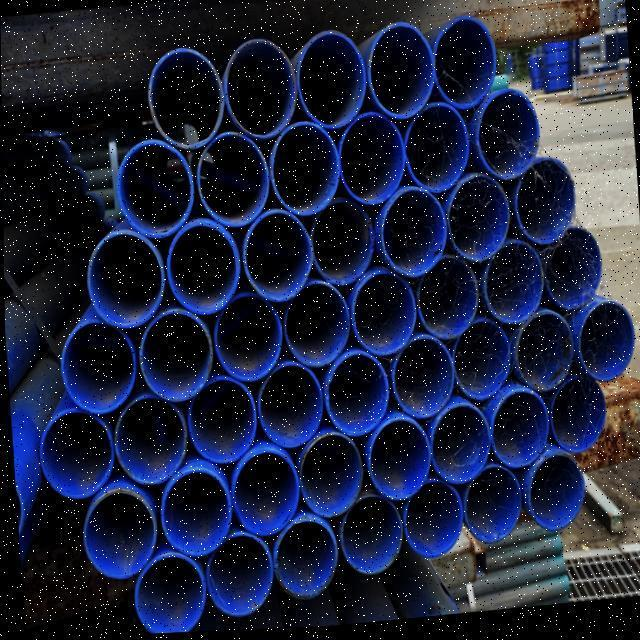pipe: (145, 49, 227, 151), (219, 40, 300, 142), (86, 233, 169, 332), (292, 32, 371, 132), (115, 141, 192, 243), (56, 319, 138, 414), (364, 28, 437, 130), (428, 24, 506, 119), (136, 311, 214, 404), (183, 380, 267, 466), (269, 122, 341, 221), (166, 227, 242, 319), (39, 410, 115, 502), (196, 132, 268, 228), (337, 116, 407, 212), (114, 398, 188, 488), (243, 213, 314, 306), (377, 191, 449, 282), (161, 467, 233, 558), (405, 255, 475, 348), (212, 298, 286, 385), (82, 492, 156, 578), (476, 92, 542, 187), (322, 354, 393, 441), (446, 179, 512, 271), (349, 277, 421, 361), (309, 202, 375, 292), (283, 283, 350, 371), (256, 364, 321, 454), (405, 108, 472, 195), (232, 454, 300, 539), (134, 555, 206, 635), (205, 537, 276, 618), (513, 162, 575, 253), (367, 424, 431, 512), (299, 435, 363, 521), (272, 523, 338, 604), (432, 406, 494, 491), (390, 344, 454, 426), (337, 500, 402, 580), (483, 245, 543, 331), (513, 316, 575, 399), (544, 233, 603, 317), (488, 392, 547, 475), (403, 480, 462, 563), (578, 304, 634, 391), (451, 324, 511, 405), (463, 467, 522, 549), (524, 462, 582, 541), (551, 377, 606, 460)
